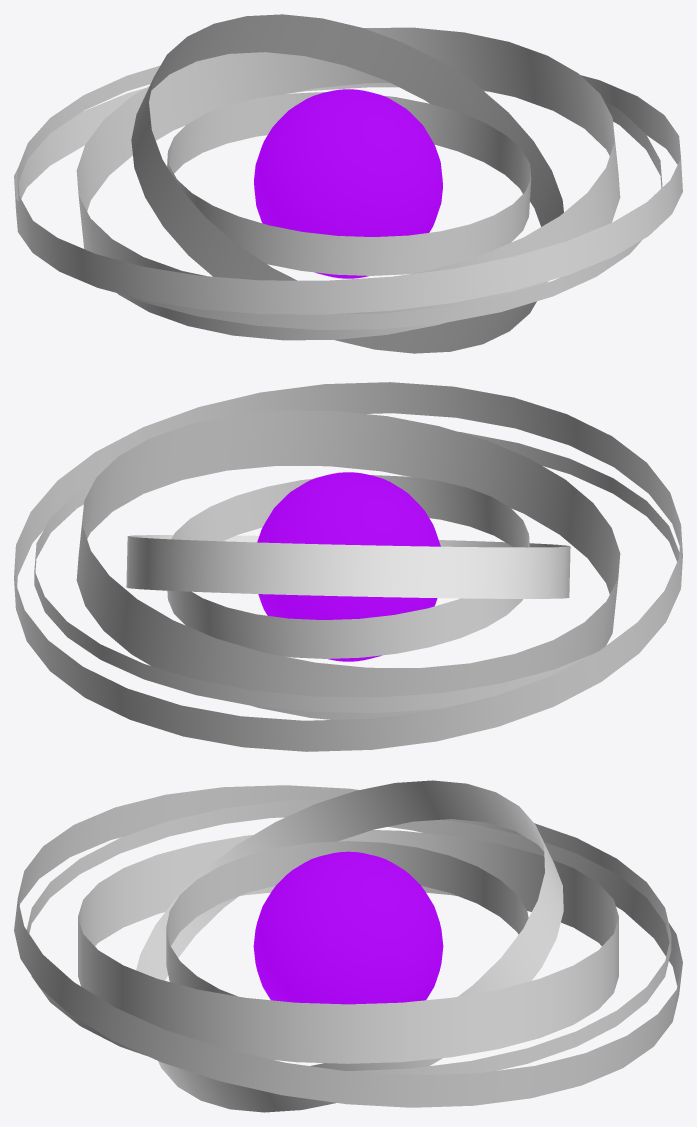
File: metalicOrb6.glb
3 renders of one model, top to bottom at view 1: azimuth 30°, elevation 25°; view 2: azimuth 150°, elevation 25°; view 3: azimuth 270°, elevation 25°, orthographic.
Visible parts, largest first — view 1: Cylinder.002, Cylinder.003, Cylinder.001, Sphere, Cylinder, Cylinder.004; view 2: Cylinder.002, Cylinder.003, Cylinder.001, Cylinder, Sphere, Cylinder.004; view 3: Cylinder.002, Cylinder.003, Sphere, Cylinder.001, Cylinder, Cylinder.004.
Part boxes in pixels (left/top/right/bottom): Cylinder.002: left=76, top=27, right=620, bottom=340; Cylinder.003: left=14, top=75, right=682, bottom=314; Cylinder.001: left=131, top=14, right=563, bottom=353; Sphere: left=254, top=89, right=442, bottom=278; Cylinder: left=167, top=92, right=531, bottom=275; Cylinder.004: left=17, top=59, right=662, bottom=329; Cylinder.002: left=76, top=410, right=620, bottom=719; Cylinder.003: left=14, top=382, right=682, bottom=751; Cylinder.001: left=126, top=535, right=570, bottom=598; Cylinder: left=167, top=475, right=529, bottom=658; Sphere: left=257, top=472, right=440, bottom=661; Cylinder.004: left=34, top=431, right=679, bottom=712; Cylinder.002: left=78, top=830, right=618, bottom=1063; Cylinder.003: left=14, top=785, right=682, bottom=1107; Sphere: left=253, top=851, right=443, bottom=1004; Cylinder.001: left=136, top=780, right=563, bottom=1112; Cylinder: left=166, top=841, right=528, bottom=996; Cylinder.004: left=26, top=798, right=671, bottom=1075.
Size of the model in its own units: 5.87 by 2 by 5.87.
